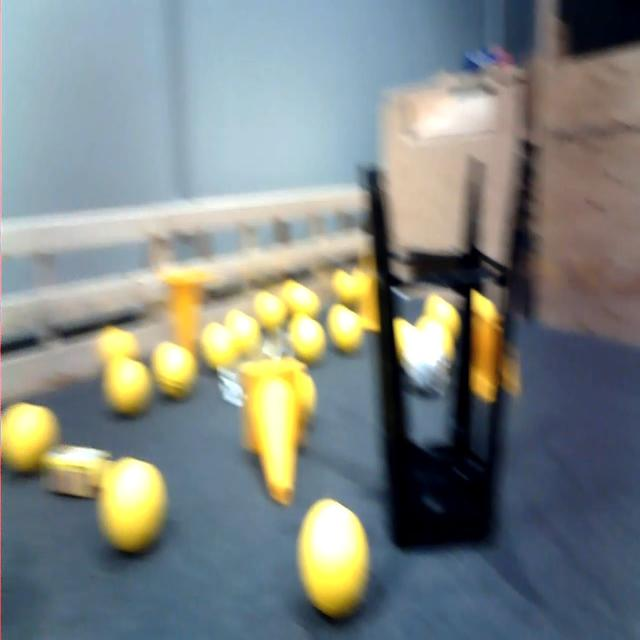fuel: (296, 502, 371, 621), (96, 456, 170, 560), (0, 401, 59, 483), (97, 351, 153, 422), (150, 329, 200, 400), (193, 313, 241, 376), (96, 319, 147, 378), (221, 297, 267, 356), (293, 319, 329, 370), (327, 305, 363, 356), (253, 291, 287, 336), (286, 280, 320, 316), (330, 266, 354, 305), (355, 267, 371, 303)
